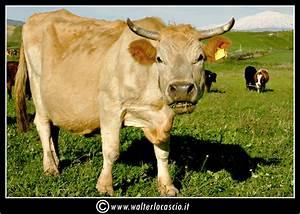cow: (12, 8, 235, 196), (244, 65, 269, 93)
